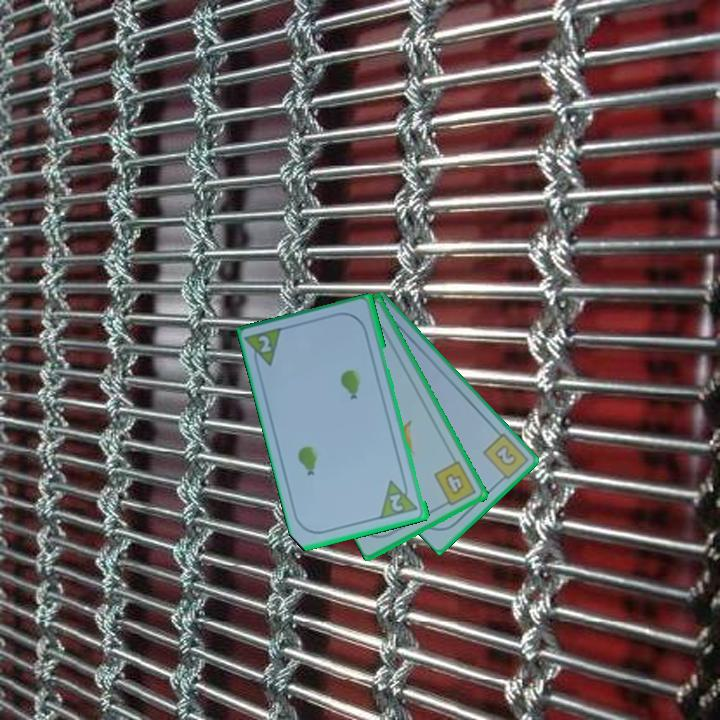2b: (479, 429, 531, 486)
2p: (386, 491, 406, 515), (255, 332, 275, 356)
4b: (431, 458, 480, 510)
